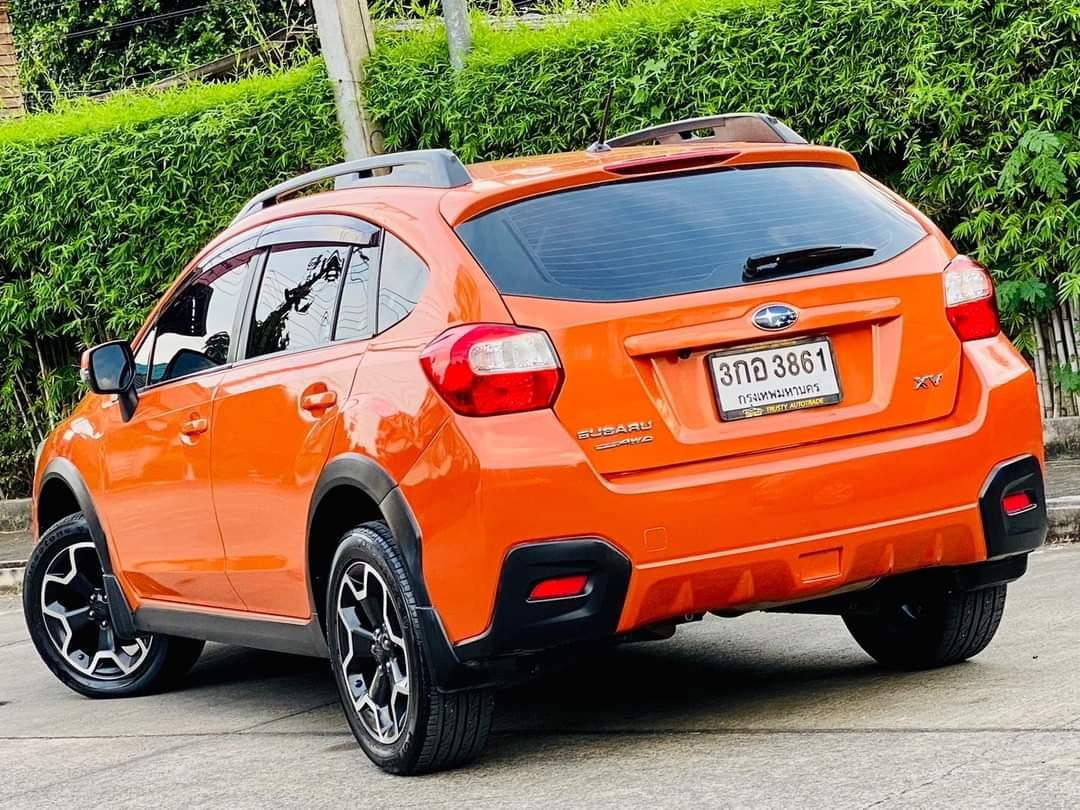license-plate: (702, 334, 847, 426)
